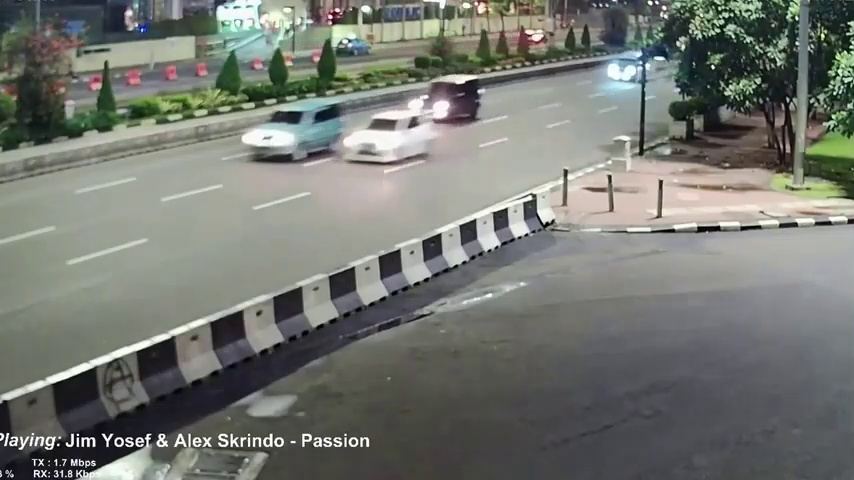car: (249, 98, 341, 159), (346, 109, 430, 166), (416, 70, 482, 124), (609, 48, 643, 86), (336, 37, 371, 58)
